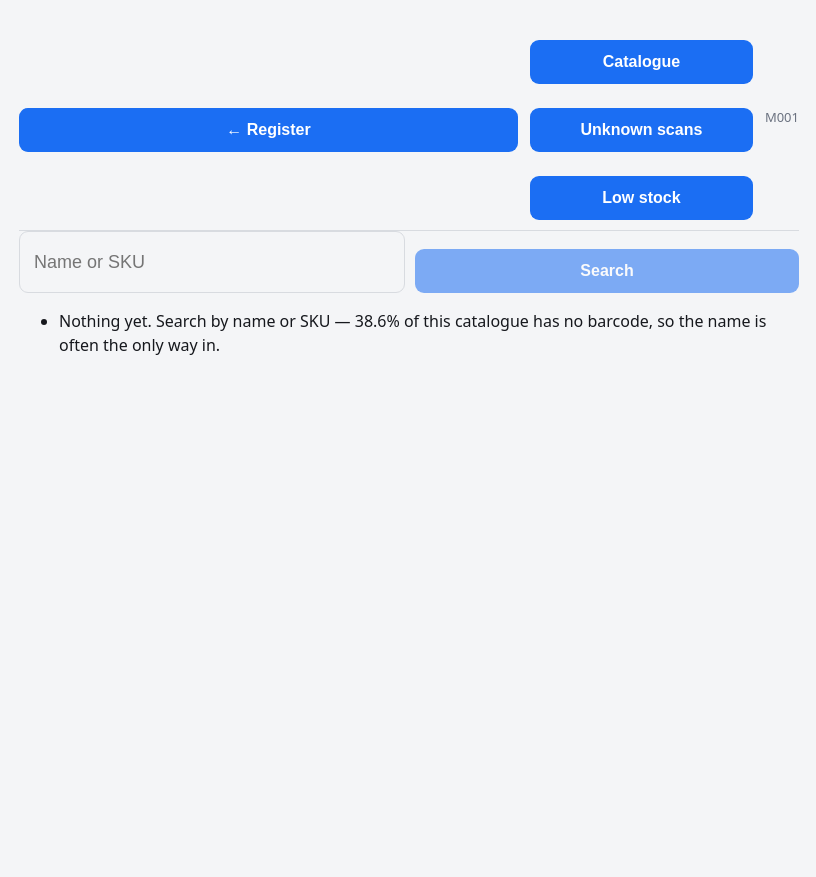
what the screen owns alone › shows an existing price in rupees
Type "tomato" into the field named "Search the catalogue". click: (212, 262)
box: [19,231,405,293]
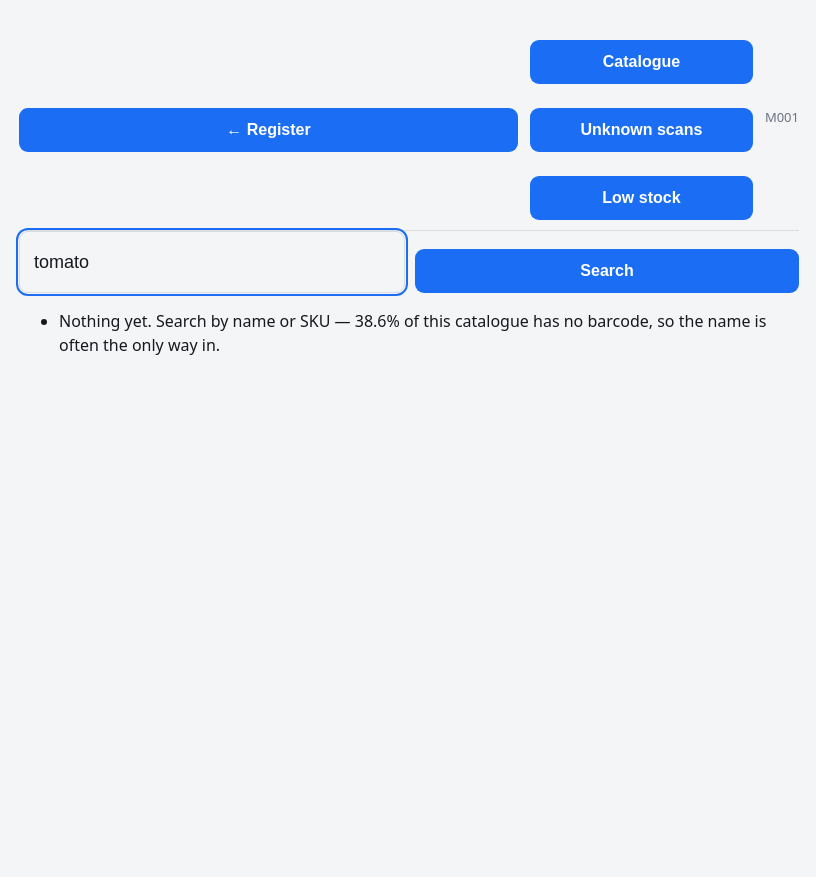
Click the button "Search". click: (607, 271)
box: [415,249,799,293]
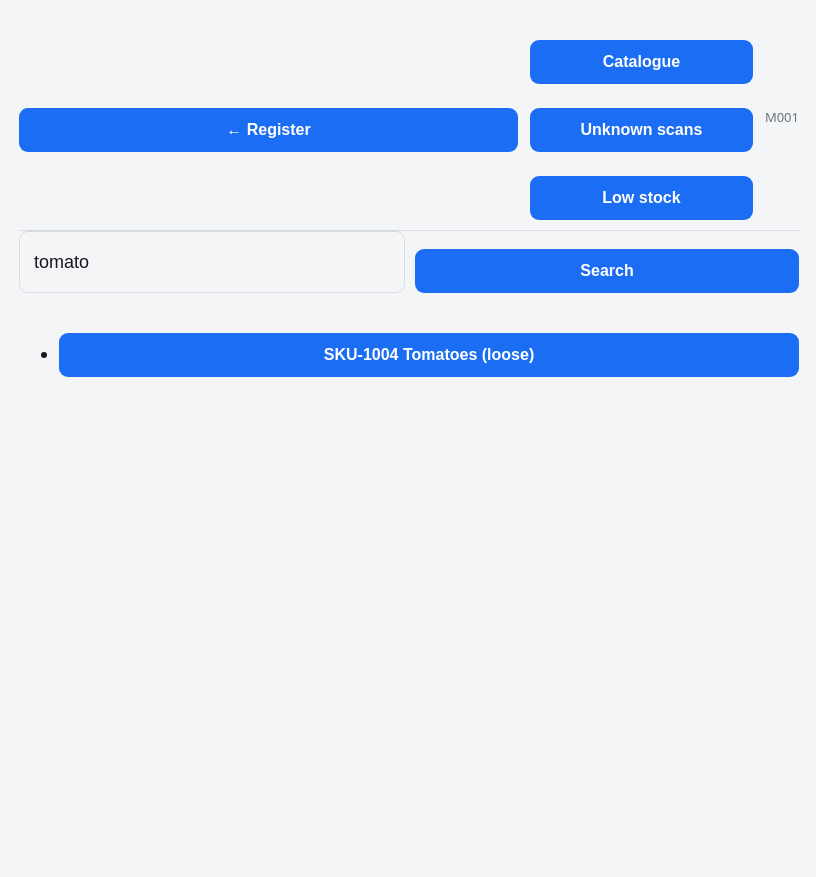
Click the button "SKU-1004 Tomatoes (loose)". click: (429, 355)
box: [59,333,799,377]
(page scrolled)
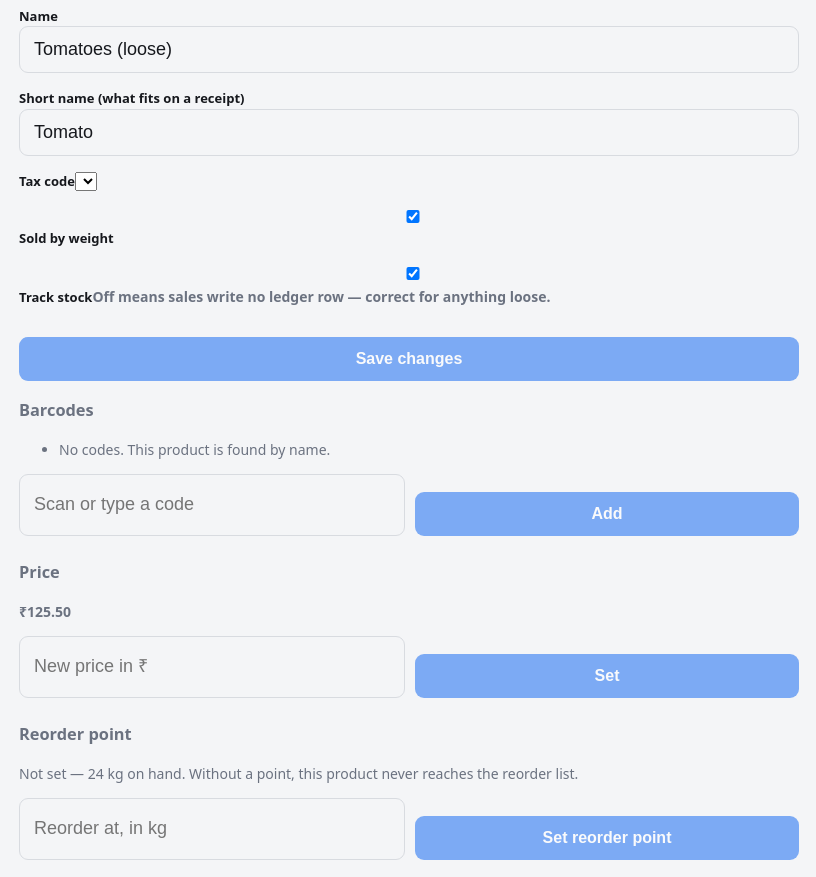
Check: the text "₹125.50" is shown, box [19,602,71,621]
